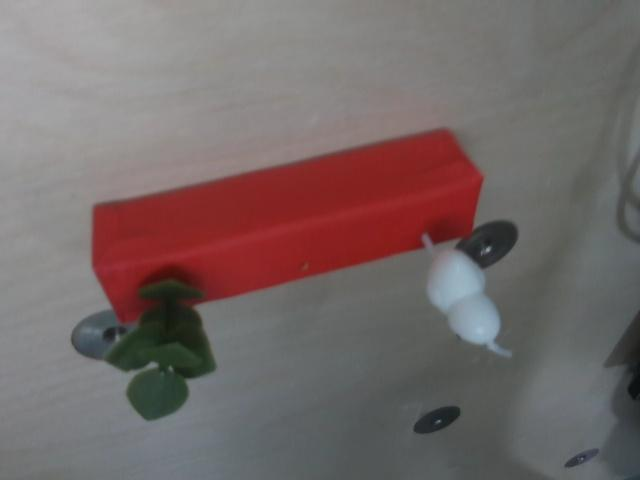leaf: (99, 270, 223, 426)
w_duck: (415, 225, 519, 364)
